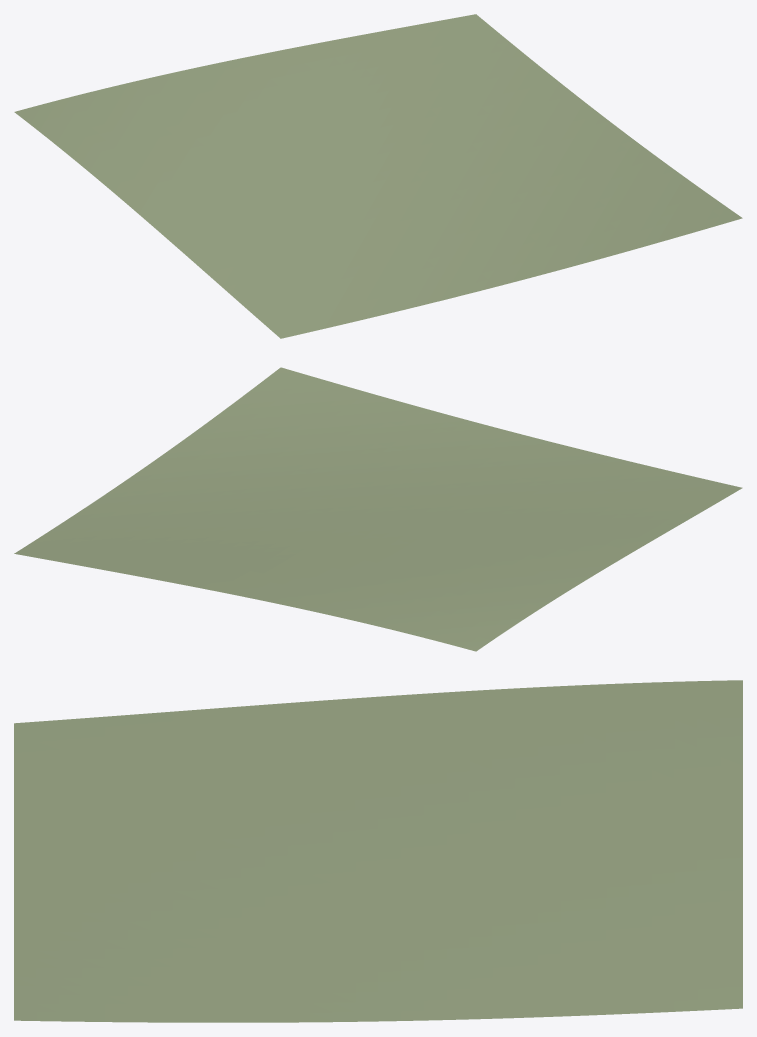
File: alpine-1-0.glb
The picture shows the model from 3 angles, top to bottom: view 1: azimuth 30°, elevation 25°; view 2: azimuth 150°, elevation 25°; view 3: azimuth 270°, elevation 25°; orthographic projection. The views are drawn at different scales.
Parts seen in each view (by area): view 1: alpine-1-0; view 2: alpine-1-0; view 3: alpine-1-0.
Boxes of the visible parts, box(x1,y1,x2,y2) form: alpine-1-0: box(14, 14, 742, 338); alpine-1-0: box(14, 367, 742, 651); alpine-1-0: box(14, 680, 742, 1022).
Bounding box in the file's own units: 256 × 17.99 × 256.
